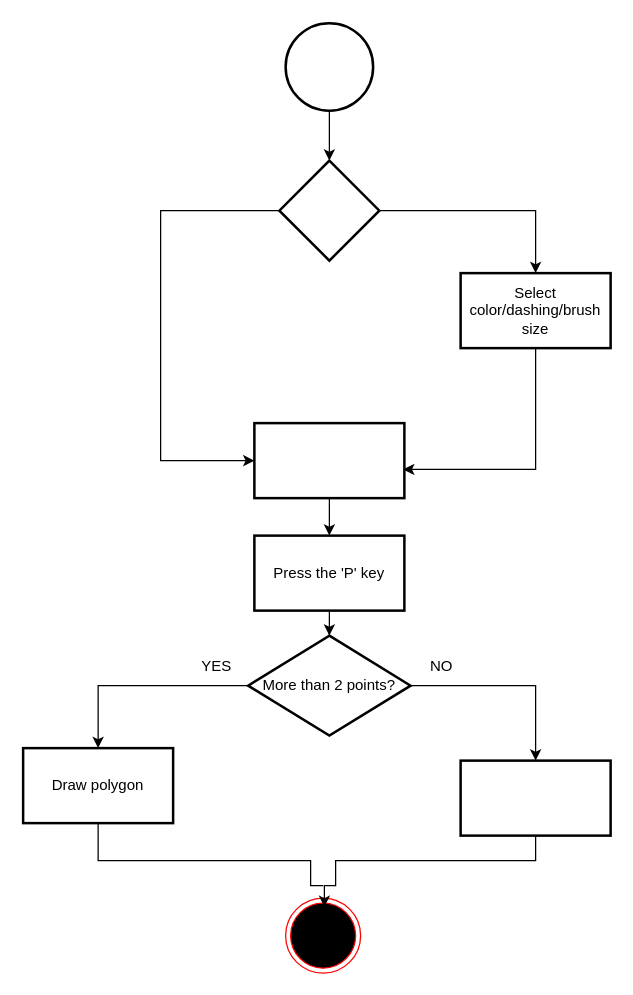
Image size: 633x995. Some labels were removed from this diagram. Here are the shapes that lost their labels. From the top down, the centre of each, then its label:
pixel 328 460: Add points to canvas
pixel 535 797: Draw line
